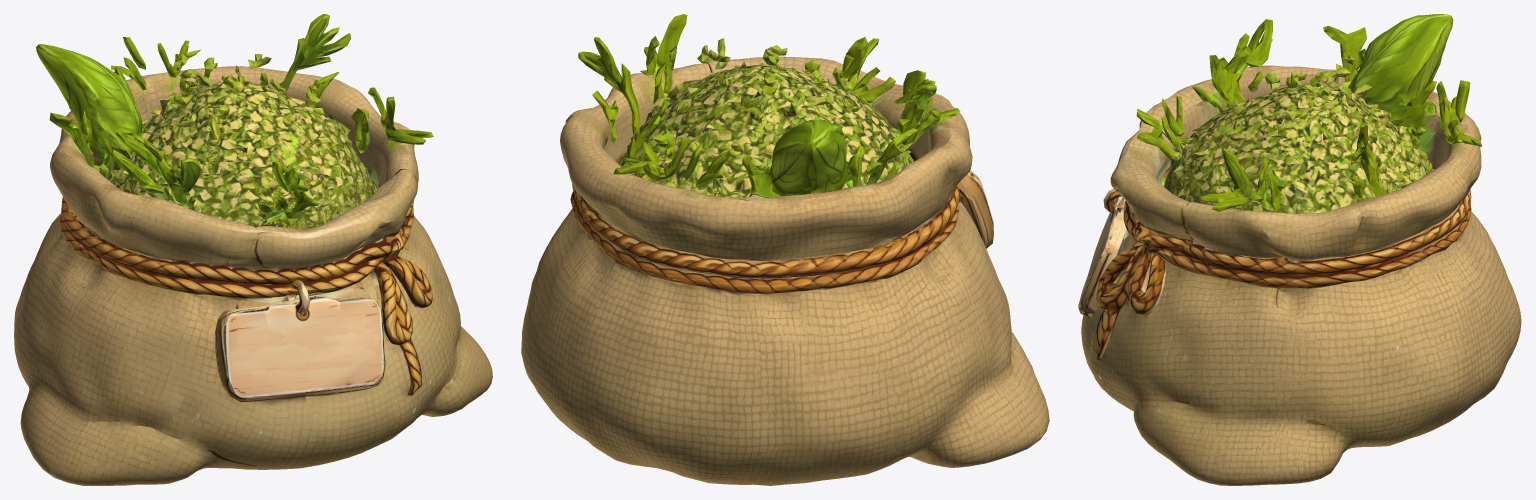
The model's file is Herbs_bag.fbx.
3 renders of one model, left to right at view 1: azimuth 30°, elevation 25°; view 2: azimuth 150°, elevation 25°; view 3: azimuth 270°, elevation 25°, orthographic. The views are drawn at different scales.
Parts seen in each view (by area): view 1: Mesh_0; view 2: Mesh_0; view 3: Mesh_0.
Part boxes in pixels (bbox=[...]): Mesh_0: bbox=[14, 14, 492, 485]; Mesh_0: bbox=[521, 14, 1049, 485]; Mesh_0: bbox=[1078, 14, 1521, 485].
Bounding box in the file's own units: 37.89 × 27.95 × 34.6.
1 material, 1 textured.
